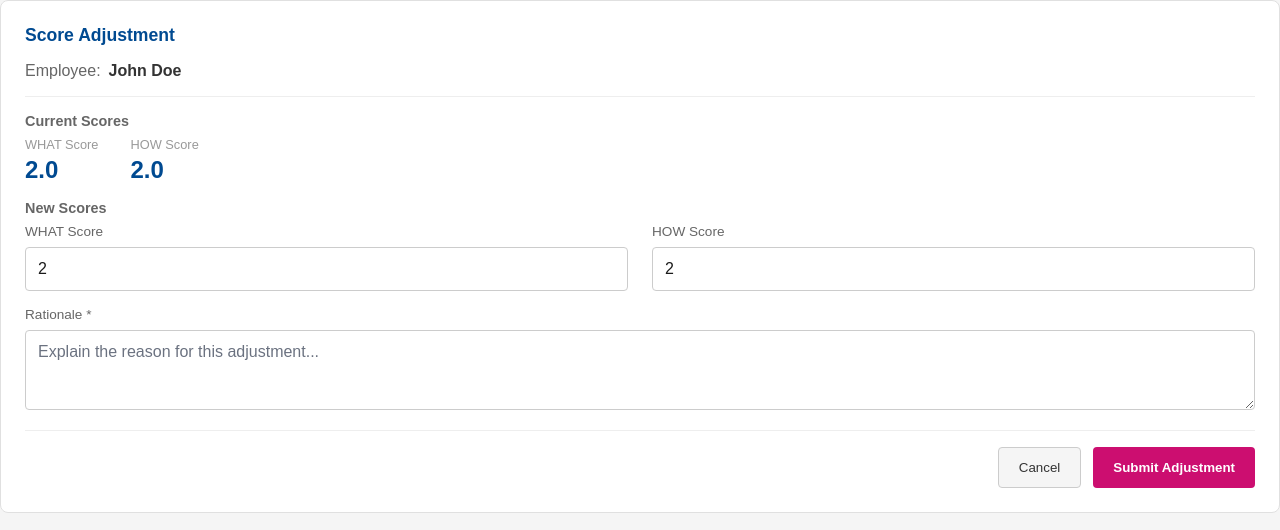
Test: ScoreAdjustmentPanel › submission › should disable submit button while submitting
Replace the text in the number field named "whatScore" with "2.5" at (326, 269), box [25, 247, 628, 291]
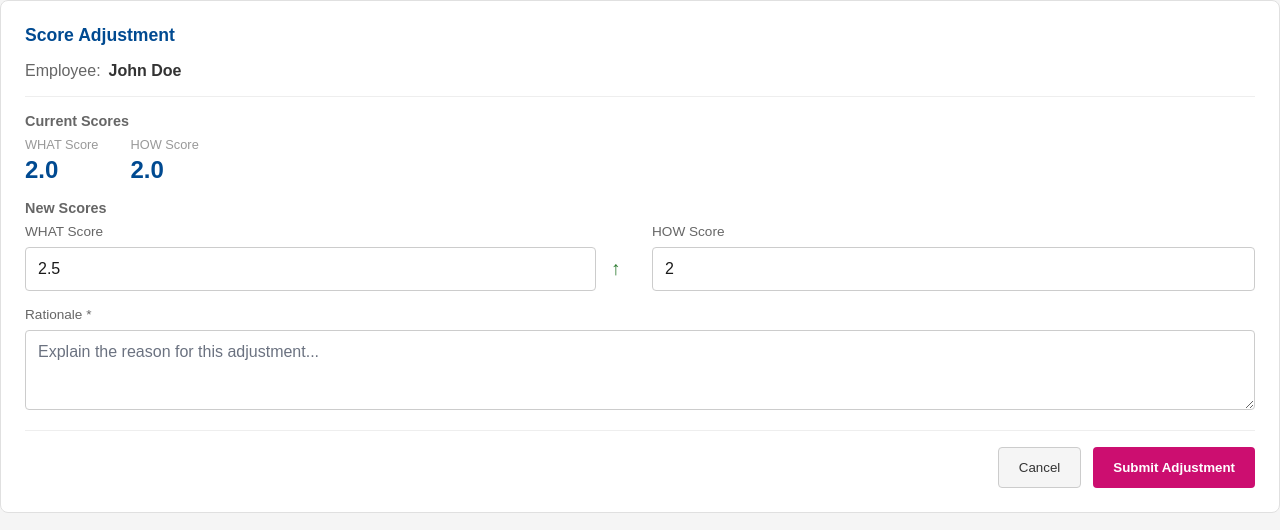
Type "Test" into the text box named "rationale" at (640, 370), box [25, 330, 1255, 410]
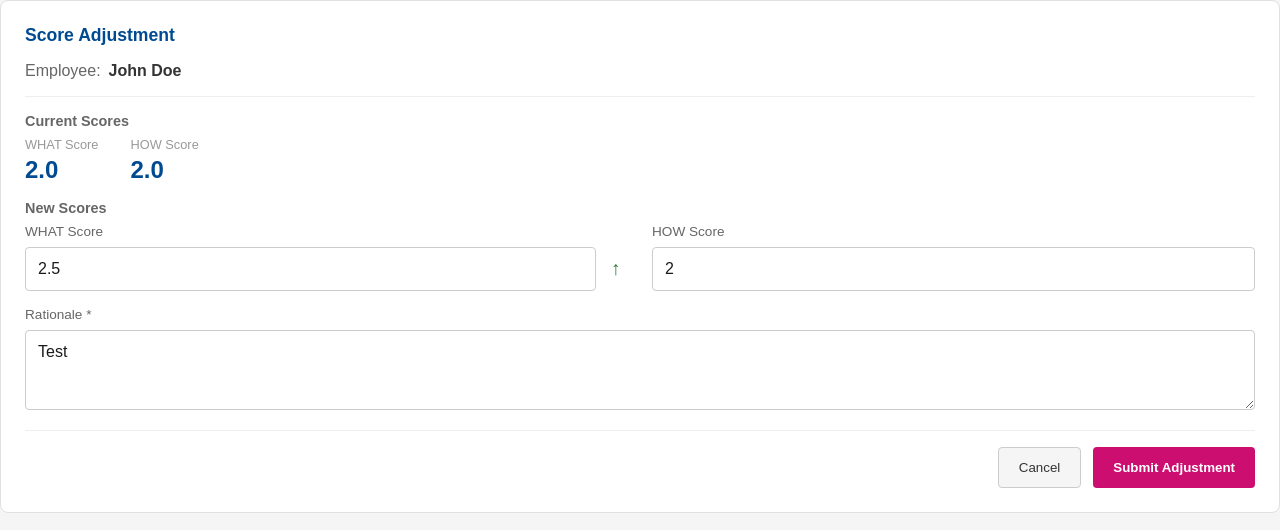
Submit the form, box [25, 200, 1255, 488]
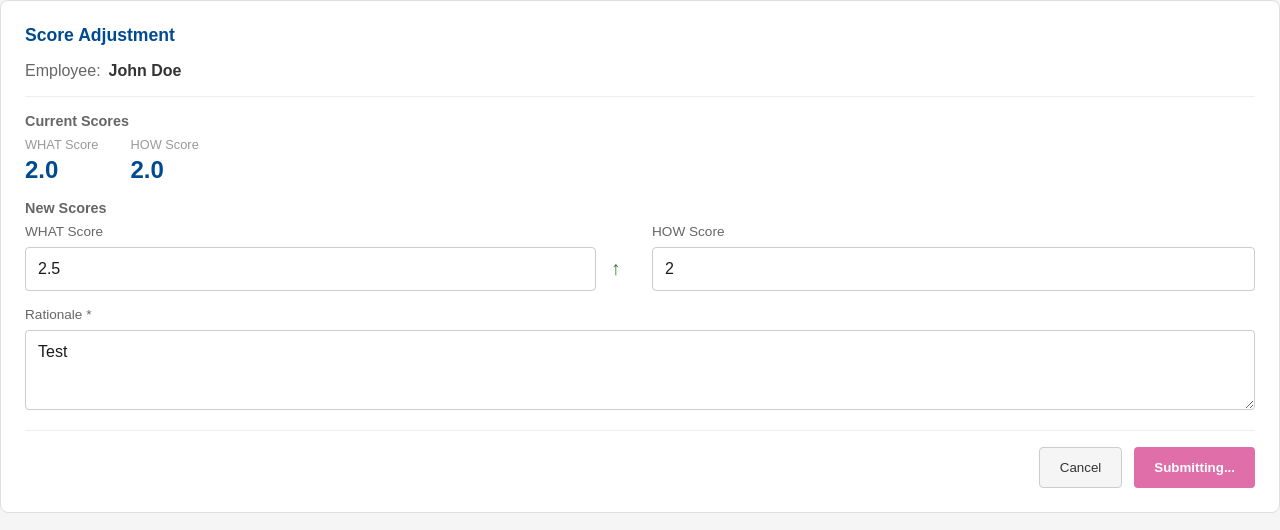
Check: the submit button is disabled, box [1134, 447, 1255, 488]
